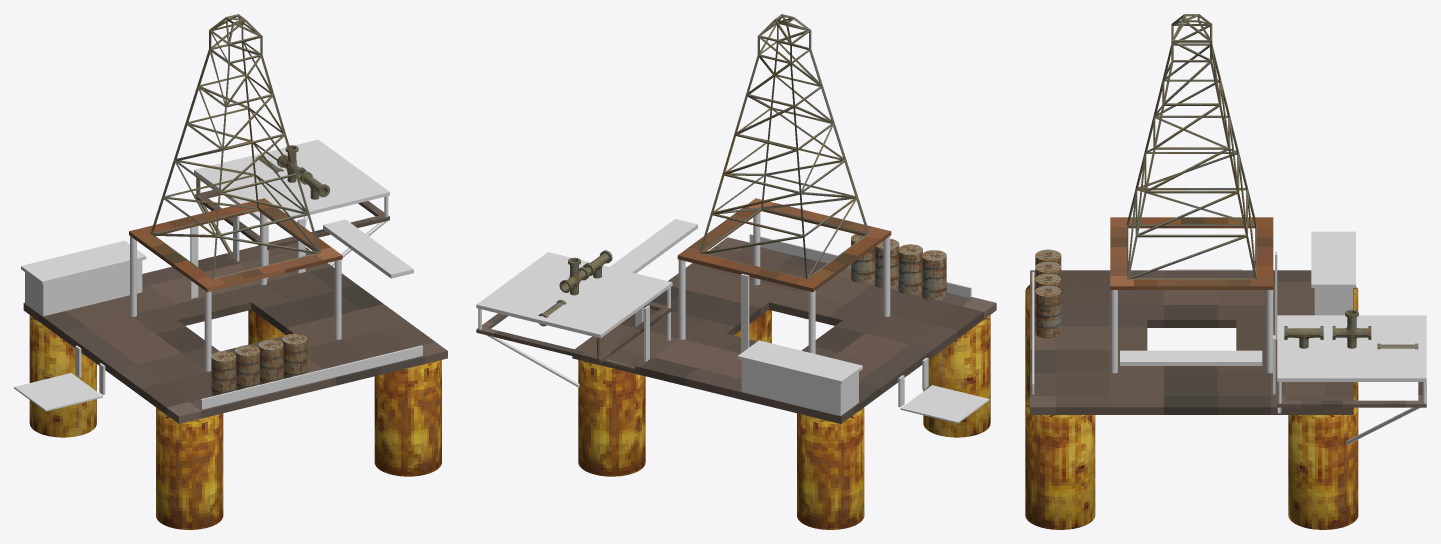
File: pipe_tbone.fbx
The picture shows the model from 3 angles, left to right: view 1: azimuth 30°, elevation 25°; view 2: azimuth 150°, elevation 25°; view 3: azimuth 270°, elevation 25°; orthographic projection. The views are drawn at different scales.
Visible parts, largest first — view 1: floor_1, Cylinder, Cube.004, Helipad, Cube.006, floor.003, Cube, Cylinder.001, floor.002, floor.005, floor.004, Cylinder.002 (+3 smaller); view 2: floor_1, Cylinder, Cube.004, Helipad, Cube.006, floor.003, Cylinder.001, floor.002, floor.004, floor.005, Cylinder.002, Cylinder.003 (+5 smaller); view 3: floor_1, Cylinder, Cube.004, Helipad, floor.003, Cube.006, floor.005, floor.004, Cylinder.005, Cylinder.001, pipe_corner, pipe_tbone.
Part boxes in pixels (x1,y1,x2,y2): floor_1: [23, 243, 447, 423]; Cylinder: [29, 310, 441, 529]; Cube.004: [150, 14, 320, 279]; Helipad: [194, 139, 389, 225]; Cube.006: [21, 240, 146, 316]; floor.003: [129, 198, 342, 292]; Cube: [201, 345, 422, 409]; Cylinder.001: [130, 212, 341, 371]; floor.002: [14, 373, 102, 411]; floor.005: [323, 219, 413, 278]; floor.004: [194, 190, 389, 249]; Cylinder.002: [211, 351, 236, 396]; floor_1: [572, 237, 996, 423]; Cylinder: [578, 310, 990, 529]; Cube.004: [699, 14, 869, 279]; Helipad: [476, 252, 672, 338]; Cube.006: [737, 340, 862, 415]; floor.003: [677, 198, 891, 292]; Cylinder.001: [678, 212, 890, 353]; floor.002: [900, 385, 989, 423]; floor.004: [476, 302, 672, 362]; floor.005: [610, 219, 697, 273]; Cylinder.002: [921, 250, 946, 300]; Cylinder.003: [898, 244, 922, 294]; floor_1: [1030, 270, 1353, 414]; Cylinder: [1025, 285, 1358, 529]; Cube.004: [1126, 14, 1256, 279]; Helipad: [1277, 315, 1426, 381]; floor.003: [1110, 217, 1273, 289]; Cube.006: [1311, 231, 1355, 315]; floor.005: [1120, 350, 1262, 365]; floor.004: [1277, 382, 1426, 407]; Cylinder.005: [1035, 285, 1061, 338]; Cylinder.001: [1110, 290, 1273, 373]; pipe_corner: [1332, 309, 1371, 348]; pipe_tbone: [1284, 326, 1323, 348].
Size of what is drawn, in the model's own units: 8265 by 8537 by 7022.
8 materials, 7 textured.
